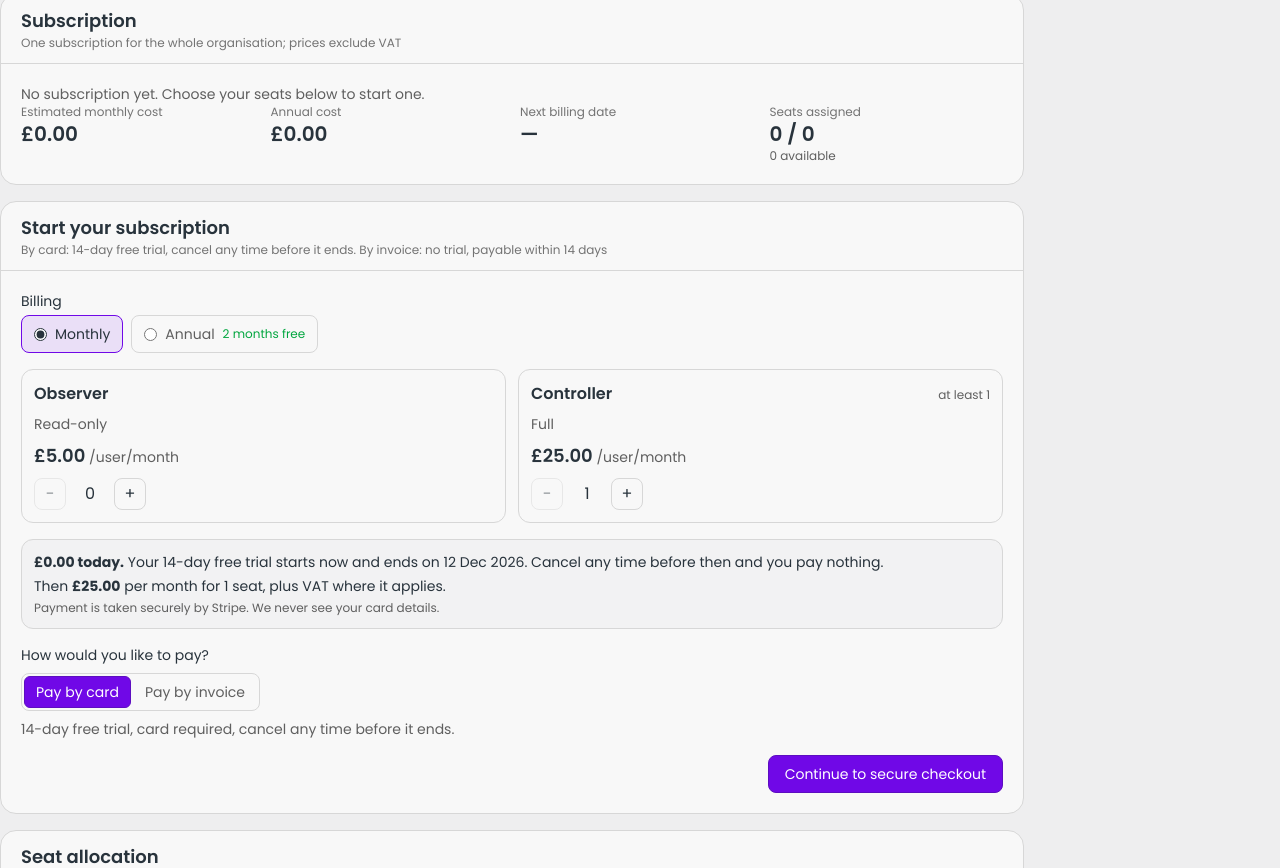
Test: SettingsSubscription › with Stripe › checks the company with the server when the name is left, and says when it cannot be invoiced
Click the radio button labelled "Pay by invoice". click: [195, 692]
box: [133,676,257,708]
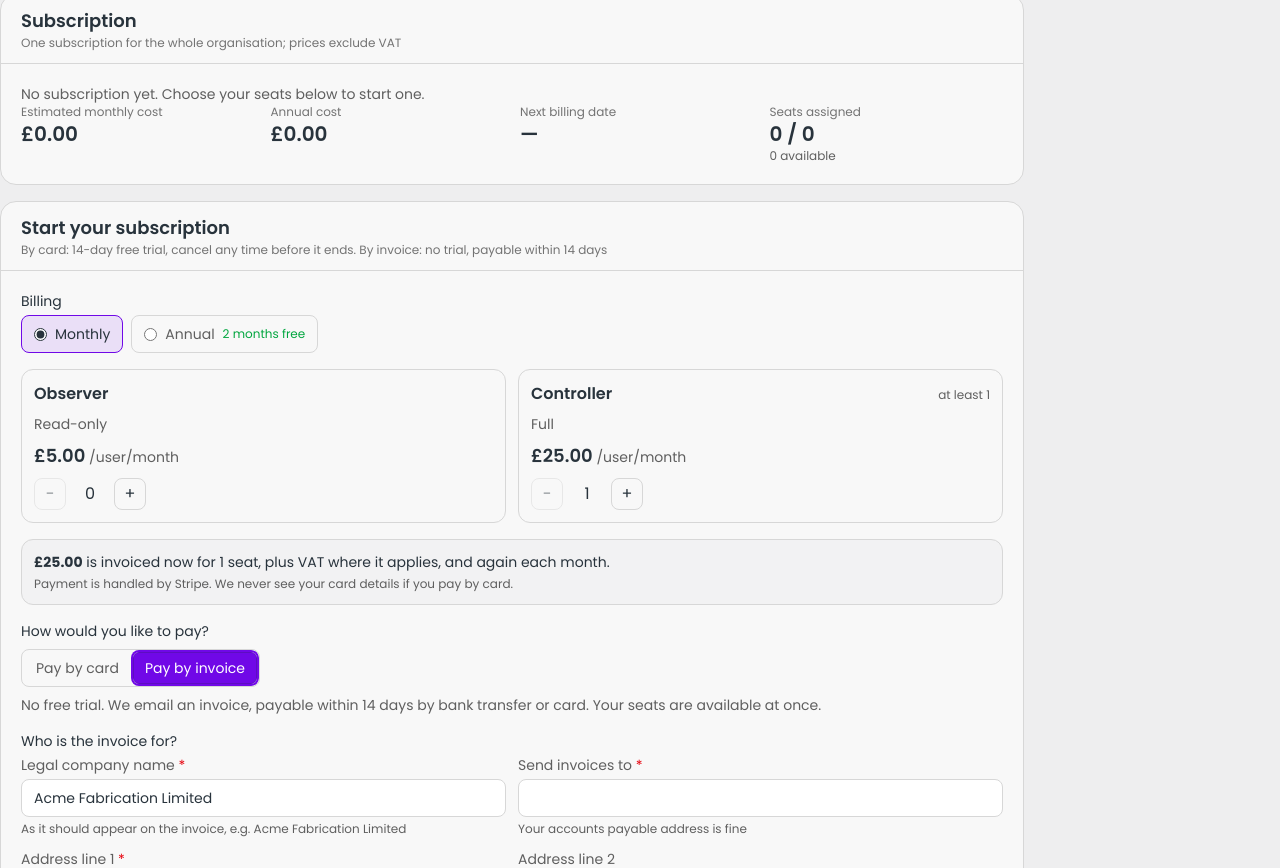
Click the field labelled "Legal company name". click: [264, 798]
box: [21,779,506,817]
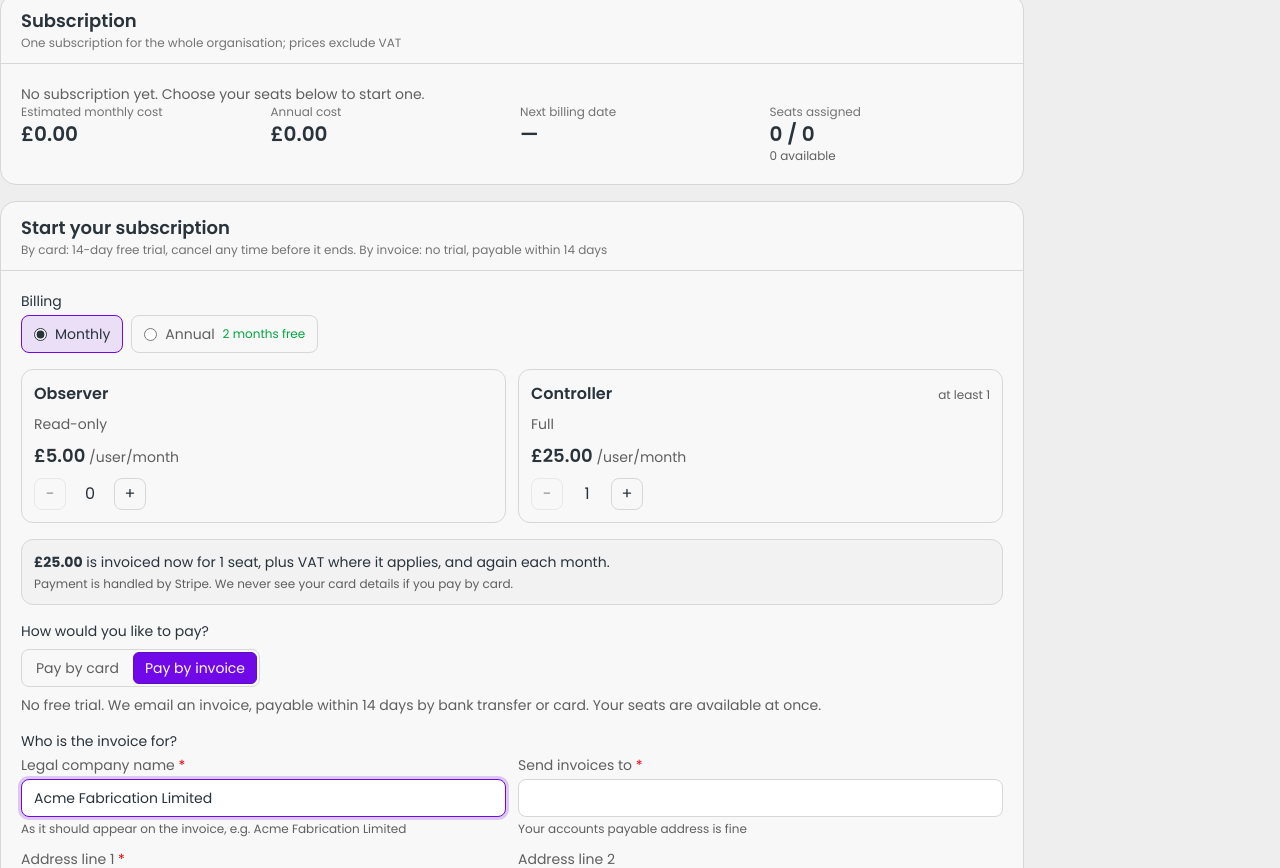
Press Tab
(page scrolled)
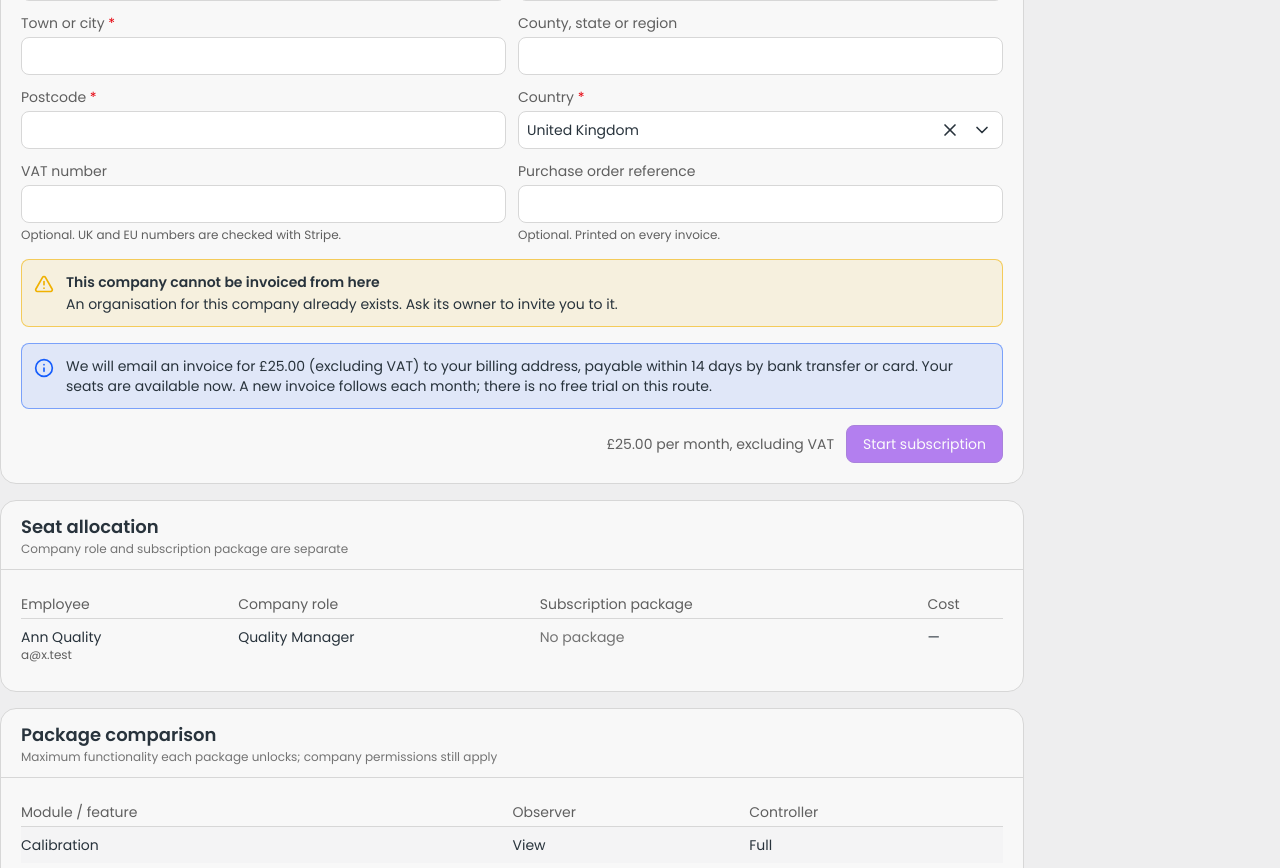
Expected: the button "Start subscription" is disabled, [846,425,1003,463]
Expected: the text "already exists" is shown, [66,294,618,314]
